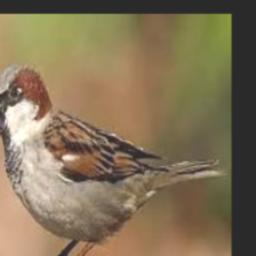Sparrow: (0, 65, 227, 256)
